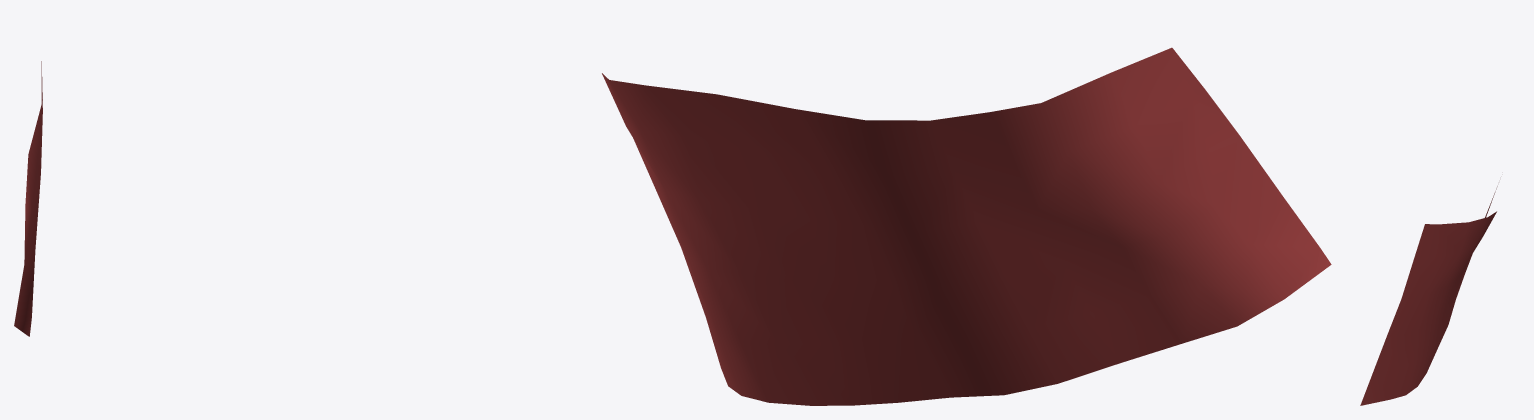
The model's file is extensor-retinaculum-of-wrist-r.glb.
3 views of the same model, side by side, from view 1: azimuth 30°, elevation 25°; view 2: azimuth 150°, elevation 25°; view 3: azimuth 270°, elevation 25° (orthographic). The views are drawn at different scales.
Parts seen in each view (by area): view 1: Extensor retinaculum of wrist.r; view 2: Extensor retinaculum of wrist.r; view 3: Extensor retinaculum of wrist.r.
Part boxes in pixels (x1,y1,x2,y2): Extensor retinaculum of wrist.r: [14, 61, 42, 336]; Extensor retinaculum of wrist.r: [602, 47, 1331, 405]; Extensor retinaculum of wrist.r: [1360, 186, 1497, 405].
Size of the model in its own units: 0.0567 by 0.0398 by 0.0224.
